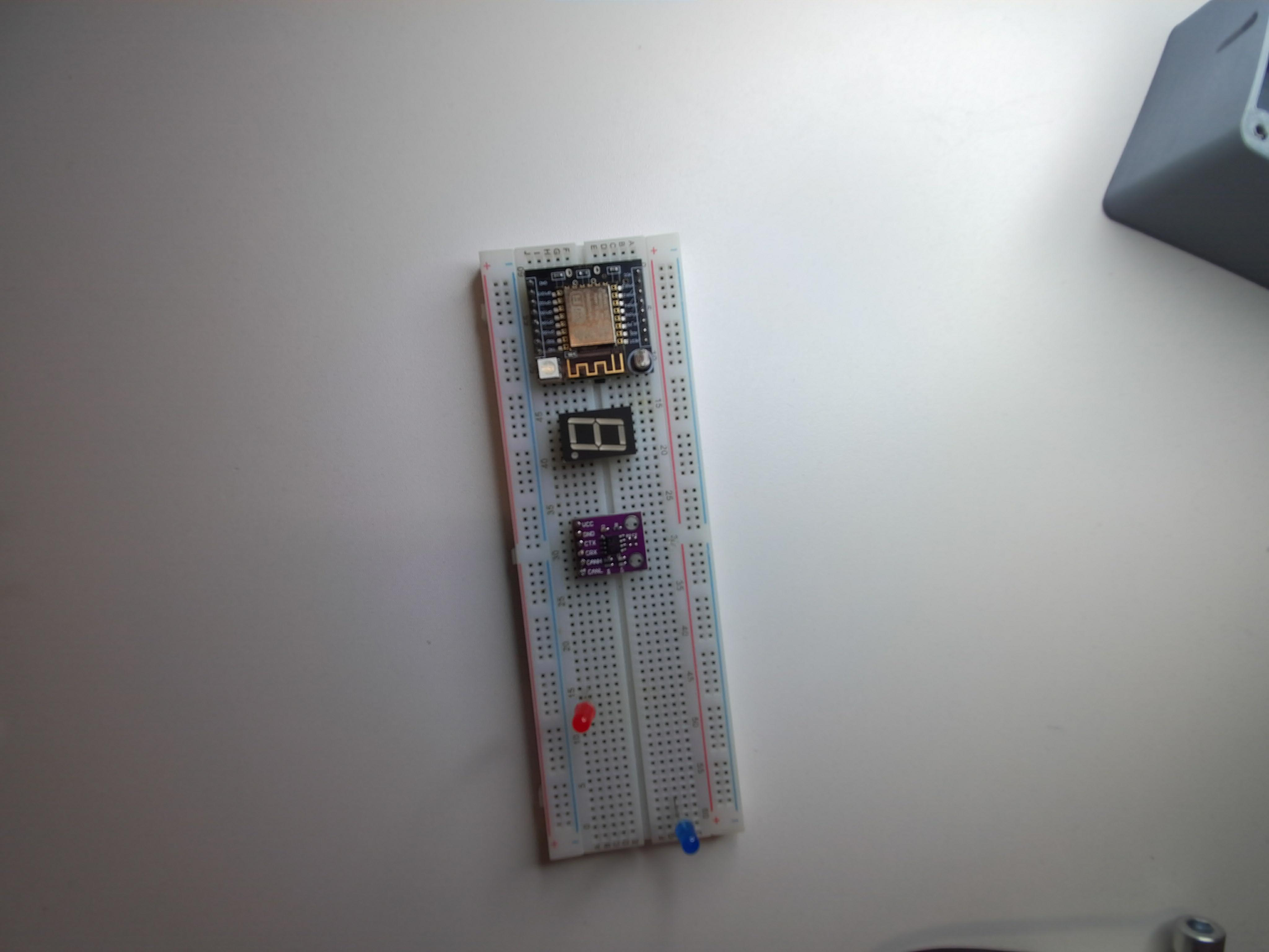base: (477, 225, 747, 867)
blue-led: (669, 815, 701, 859)
digit-board: (552, 400, 638, 469)
esp: (522, 251, 656, 390)
purple-board: (566, 510, 650, 581)
red-led: (569, 696, 598, 735)
